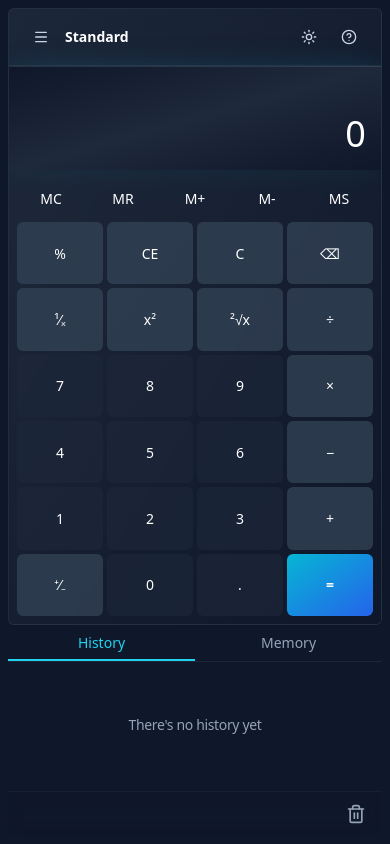
History Functionality › loads value from history
# Perform a calculation
Click the button named "Four": (60, 452) [17, 421, 103, 483]
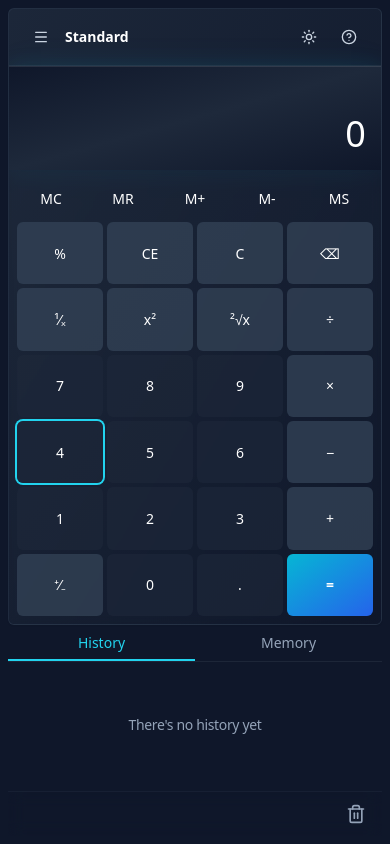
Click the button named "Add": (330, 518) [287, 487, 373, 550]
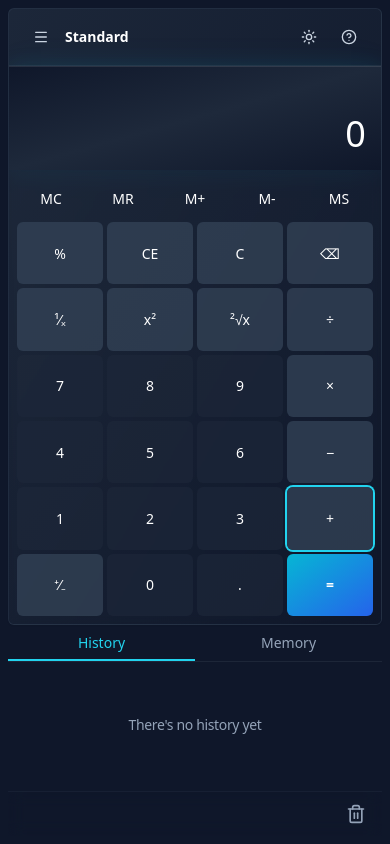
Click the button named "Six": (240, 452) [197, 421, 283, 483]
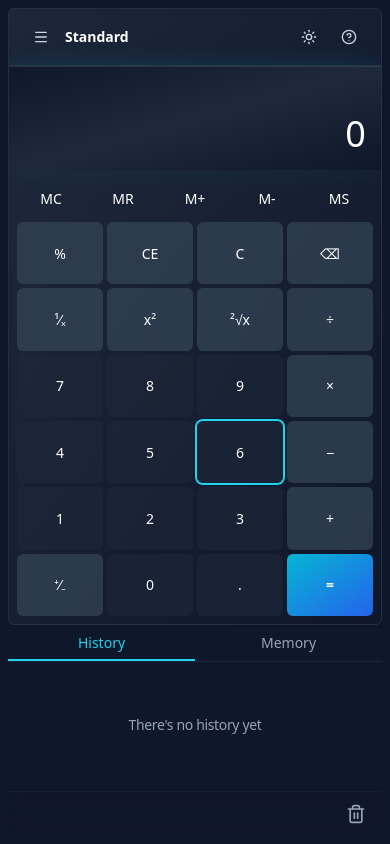
Click the button named "Equals": (330, 585) [287, 554, 373, 616]
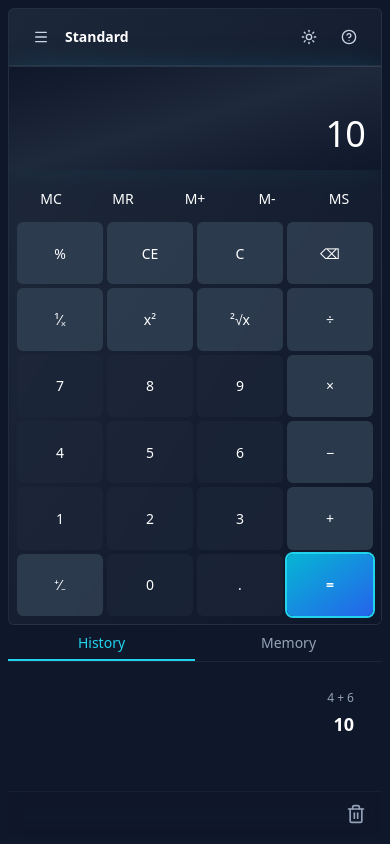
# Clear display
Click the button named "Clear": (240, 253) [197, 222, 283, 284]
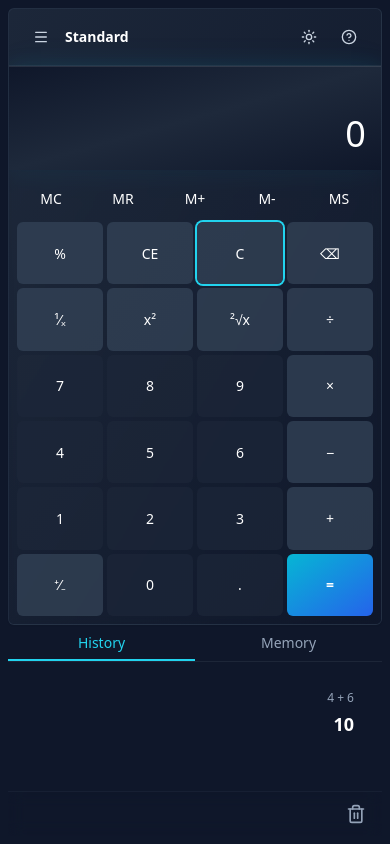
Click the text "10": (344, 724) [333, 712, 354, 736]
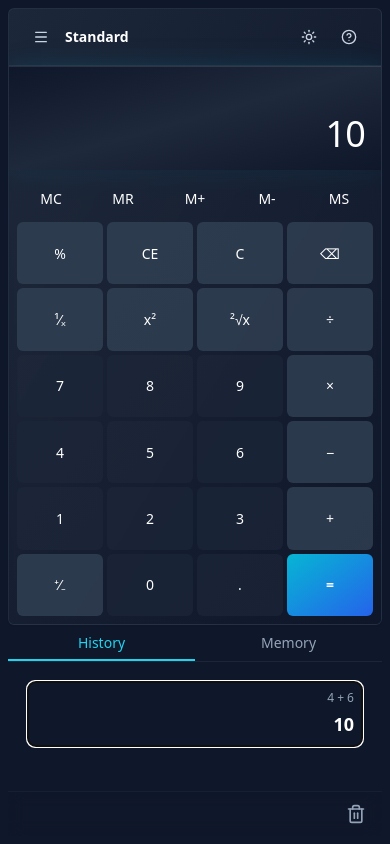
Expected: the message named "Display" reads "10", [326, 109, 365, 158]
